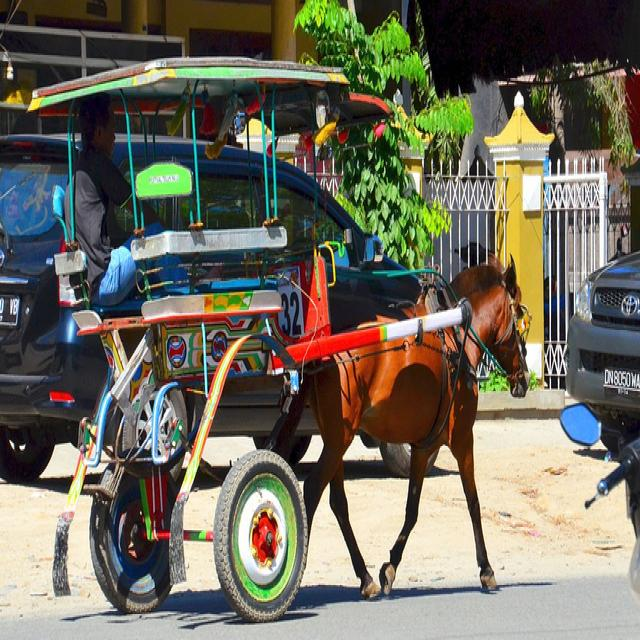motor: (558, 403, 640, 538)
